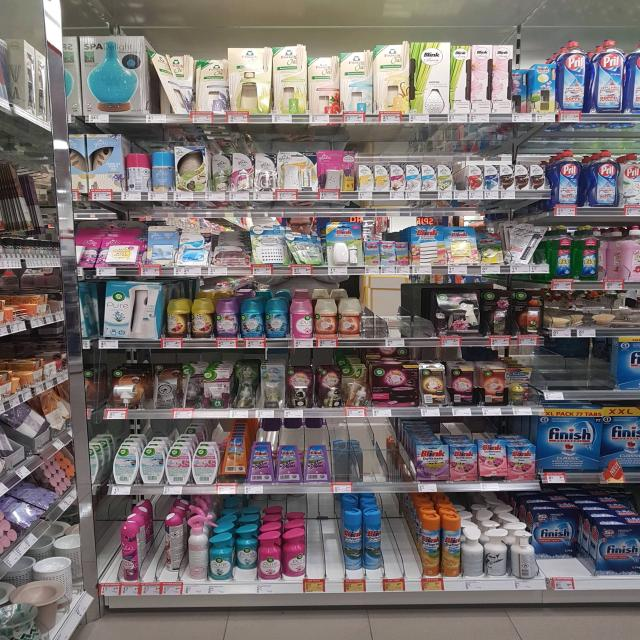void: (336, 418, 411, 481), (543, 341, 617, 396), (368, 277, 430, 338)
